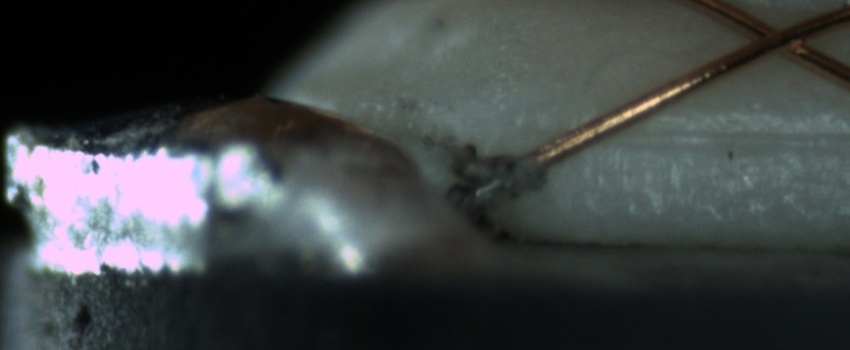CL: (729, 8, 827, 65)
DL: (589, 101, 836, 172)
